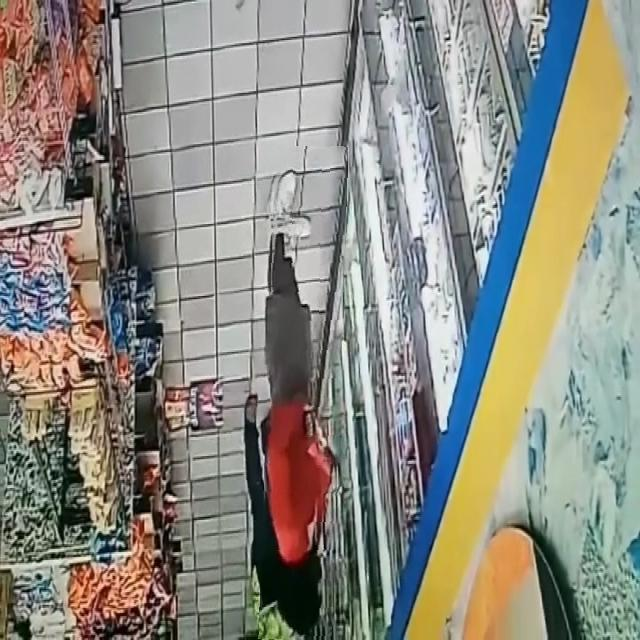Shoplifting: (262, 146, 344, 640)
